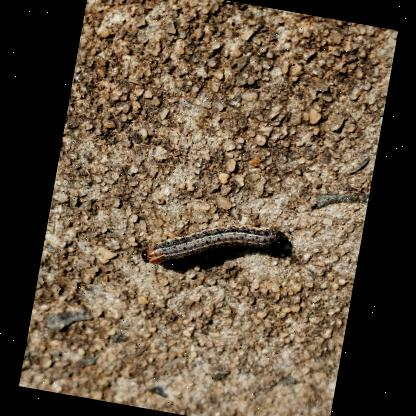Fall Armyworm Larvae: (137, 199, 283, 287)
